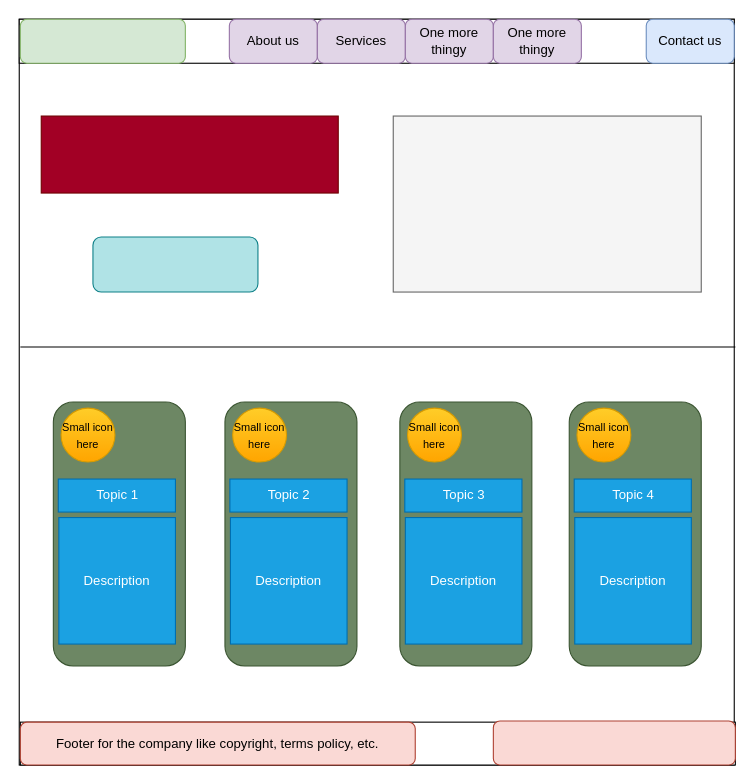
This 756x784 diagram has some shape labels left out. Here are the shapes that lost their labels. From the top down, the centre of each, then its label:
At point (102, 40): "Company's name with logo".
At point (189, 154): "Catchy line in heading Description of the company in 2-3 lines".
At point (546, 203): "Image".
At point (175, 264): "Let's get started button".
At point (613, 742): "Logos of different sites where you connect with us or lookup at".
